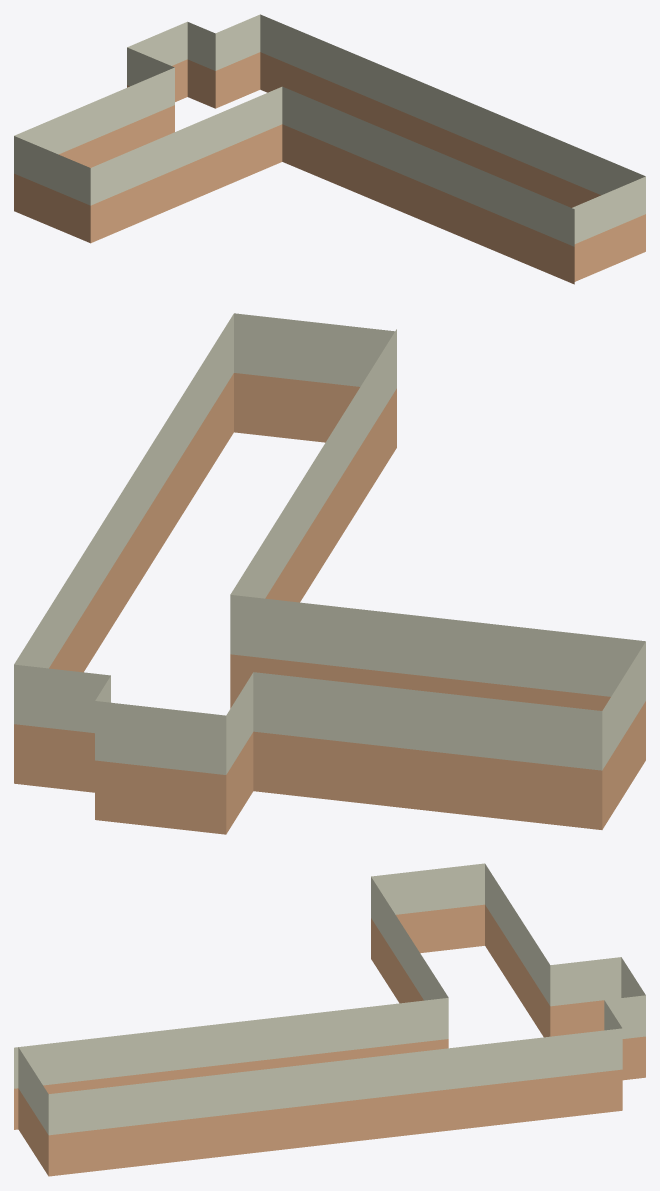
File: paredEnfermeria.glb
The picture shows the model from 3 angles, top to bottom: view 1: azimuth 30°, elevation 25°; view 2: azimuth 150°, elevation 25°; view 3: azimuth 270°, elevation 25°; orthographic projection. The views are drawn at different scales.
Visible parts, largest first — view 1: Room.089; view 2: Room.089; view 3: Room.089.
Part boxes in pixels (<box>): Room.089: <box>14,14,645,284</box>; Room.089: <box>14,313,645,834</box>; Room.089: <box>14,863,645,1176</box>.
Bounding box in the file's own units: 276 × 45.92 × 319.
